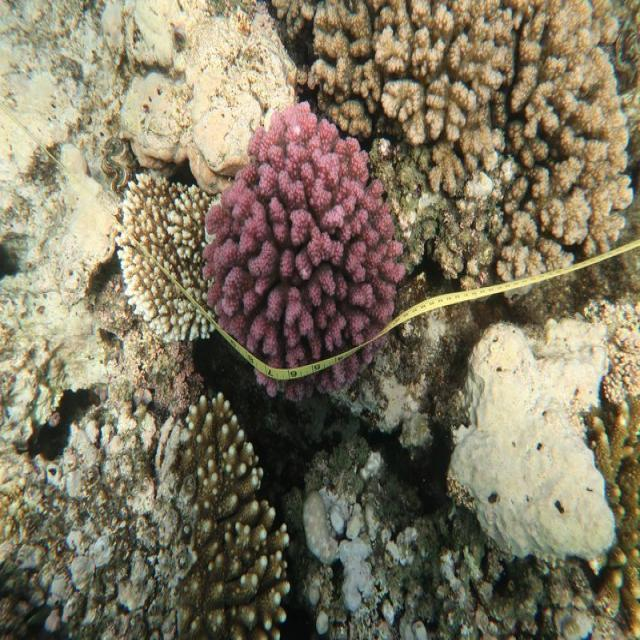Bleached Coral: (466, 323, 617, 559)
Healthy Coral: (200, 100, 406, 402), (171, 406, 308, 640), (119, 174, 217, 332)
